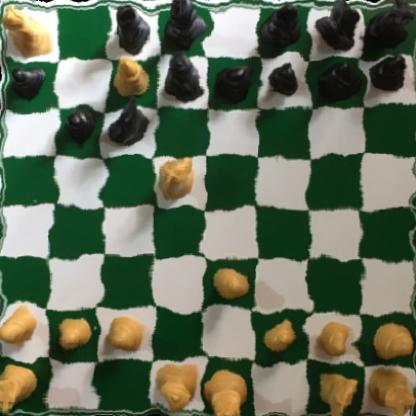black-bishop: (109, 0, 155, 54), (256, 1, 303, 52)
black-king: (160, 0, 204, 53)
black-knight: (101, 100, 151, 146), (317, 0, 361, 52)
black-pawn: (313, 62, 355, 107), (212, 60, 257, 101), (368, 52, 410, 93), (4, 63, 53, 98), (265, 65, 303, 103), (60, 110, 95, 142)
black-queen: (162, 48, 206, 105)
black-rook: (358, 0, 412, 51)
white-bishop: (0, 4, 54, 62), (106, 52, 155, 104)
white-king: (201, 364, 247, 416)
white-knight: (152, 154, 200, 200), (311, 366, 354, 416)
white-pawn: (102, 310, 156, 353), (258, 318, 303, 363), (50, 311, 92, 353), (371, 321, 412, 363), (209, 264, 252, 302), (314, 320, 357, 358), (0, 307, 43, 343)
white-queen: (153, 356, 202, 416)
white-rook: (361, 367, 416, 415), (0, 359, 41, 416)
